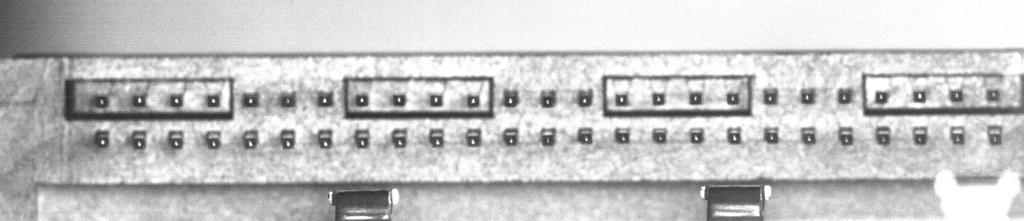pin_ok: (391, 128, 408, 148), (242, 129, 259, 148), (205, 130, 222, 149), (354, 128, 370, 148), (317, 128, 333, 148), (280, 128, 296, 148), (502, 127, 519, 145), (316, 90, 334, 107), (465, 128, 482, 146), (540, 89, 557, 107), (429, 128, 445, 147), (168, 130, 184, 149), (503, 88, 519, 107), (131, 130, 147, 149), (987, 125, 1003, 144), (800, 127, 817, 144), (875, 126, 891, 144), (838, 127, 854, 145), (540, 128, 556, 146), (912, 126, 928, 144), (577, 88, 593, 106), (950, 126, 966, 144), (94, 129, 110, 147), (279, 91, 296, 107), (242, 91, 259, 107), (577, 127, 593, 144), (614, 127, 630, 143), (652, 127, 668, 143), (837, 87, 853, 103), (762, 88, 778, 104), (799, 88, 816, 103), (764, 127, 779, 143), (727, 127, 742, 143), (689, 128, 704, 143), (985, 88, 1001, 102), (874, 90, 889, 104), (614, 92, 629, 106), (354, 93, 369, 107), (726, 91, 740, 105), (467, 93, 481, 107), (950, 88, 964, 102), (94, 95, 109, 108), (429, 93, 443, 106), (652, 91, 665, 105), (689, 91, 703, 104), (392, 93, 406, 106), (913, 89, 927, 102), (206, 94, 220, 107), (169, 94, 183, 107), (132, 94, 145, 107)
